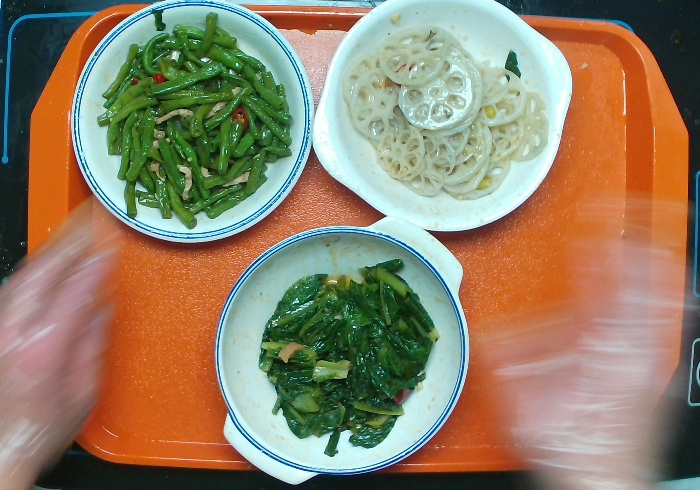HZYJPL-Dai_Er_Bai_Yuan_Wan: (309, 1, 573, 233)
HZYJPL-Lan_Bian_Dai_Er_Wan: (216, 214, 473, 490)
HZYJPL-Lan_Bian_Yuan_Die: (67, 1, 316, 245)
